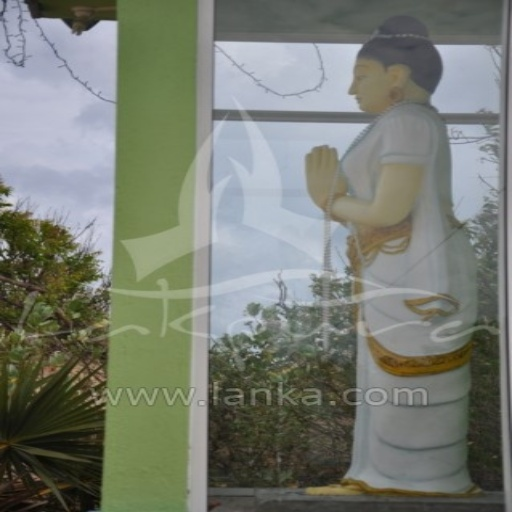hand: (311, 140, 362, 194)
